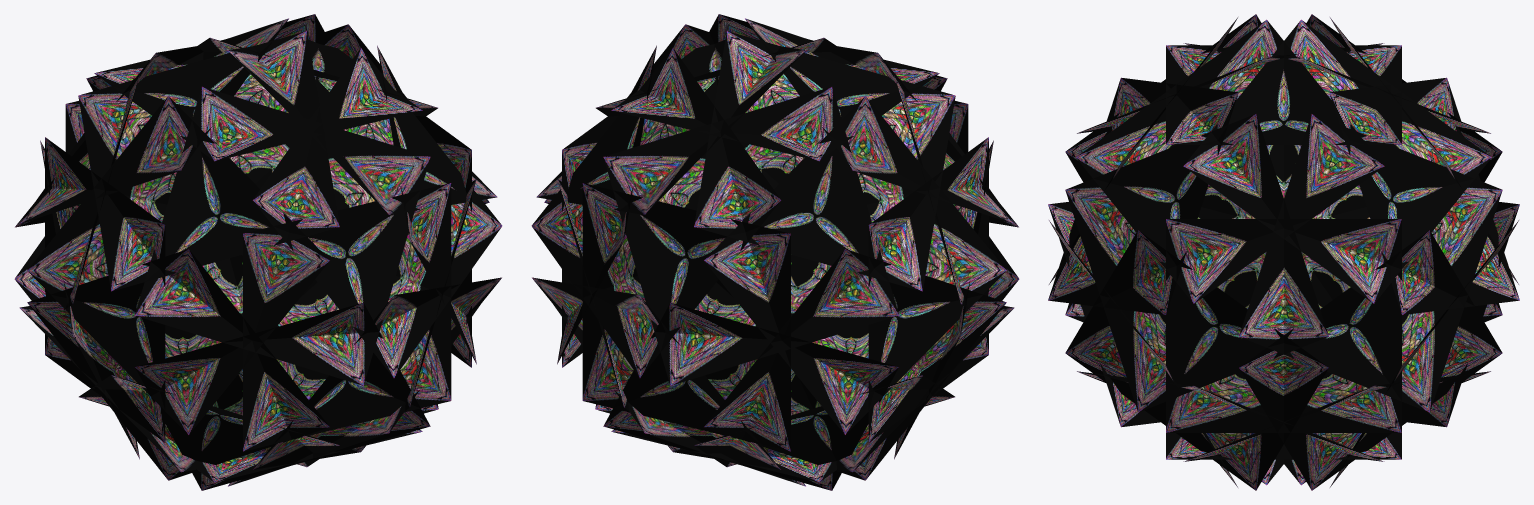
The model's file is 5GreatTruncatedIcosidodecahedron.gltf.
The picture shows the model from 3 angles, left to right: view 1: azimuth 30°, elevation 25°; view 2: azimuth 150°, elevation 25°; view 3: azimuth 270°, elevation 25°; orthographic projection. The views are drawn at different scales.
Visible parts, largest first — view 1: 1GreatTruncatedIcosidodecahedron; view 2: 1GreatTruncatedIcosidodecahedron; view 3: 1GreatTruncatedIcosidodecahedron.
Part boxes in pixels (box(x1,y1,x2,y2)): 1GreatTruncatedIcosidodecahedron: box(14, 14, 502, 490); 1GreatTruncatedIcosidodecahedron: box(531, 14, 1019, 490); 1GreatTruncatedIcosidodecahedron: box(1048, 14, 1519, 490).
Bounding box in the file's own units: 2 × 2 × 2.
1 material, 1 textured.
